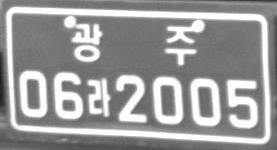0: (189, 76, 222, 127), (151, 75, 184, 124), (18, 69, 48, 117)
2: (115, 73, 147, 122)
5: (226, 78, 259, 130)
6: (53, 71, 84, 120)
광주_D: (70, 23, 197, 65)
라: (86, 77, 111, 117)
